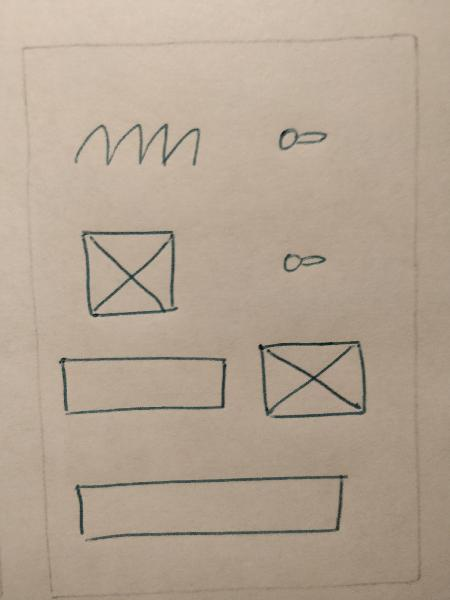image: (248, 332, 384, 423), (76, 219, 185, 323)
switch: (261, 114, 338, 159), (271, 237, 340, 286)
text: (58, 115, 210, 172)
text_input: (64, 469, 357, 549), (54, 349, 232, 422)
